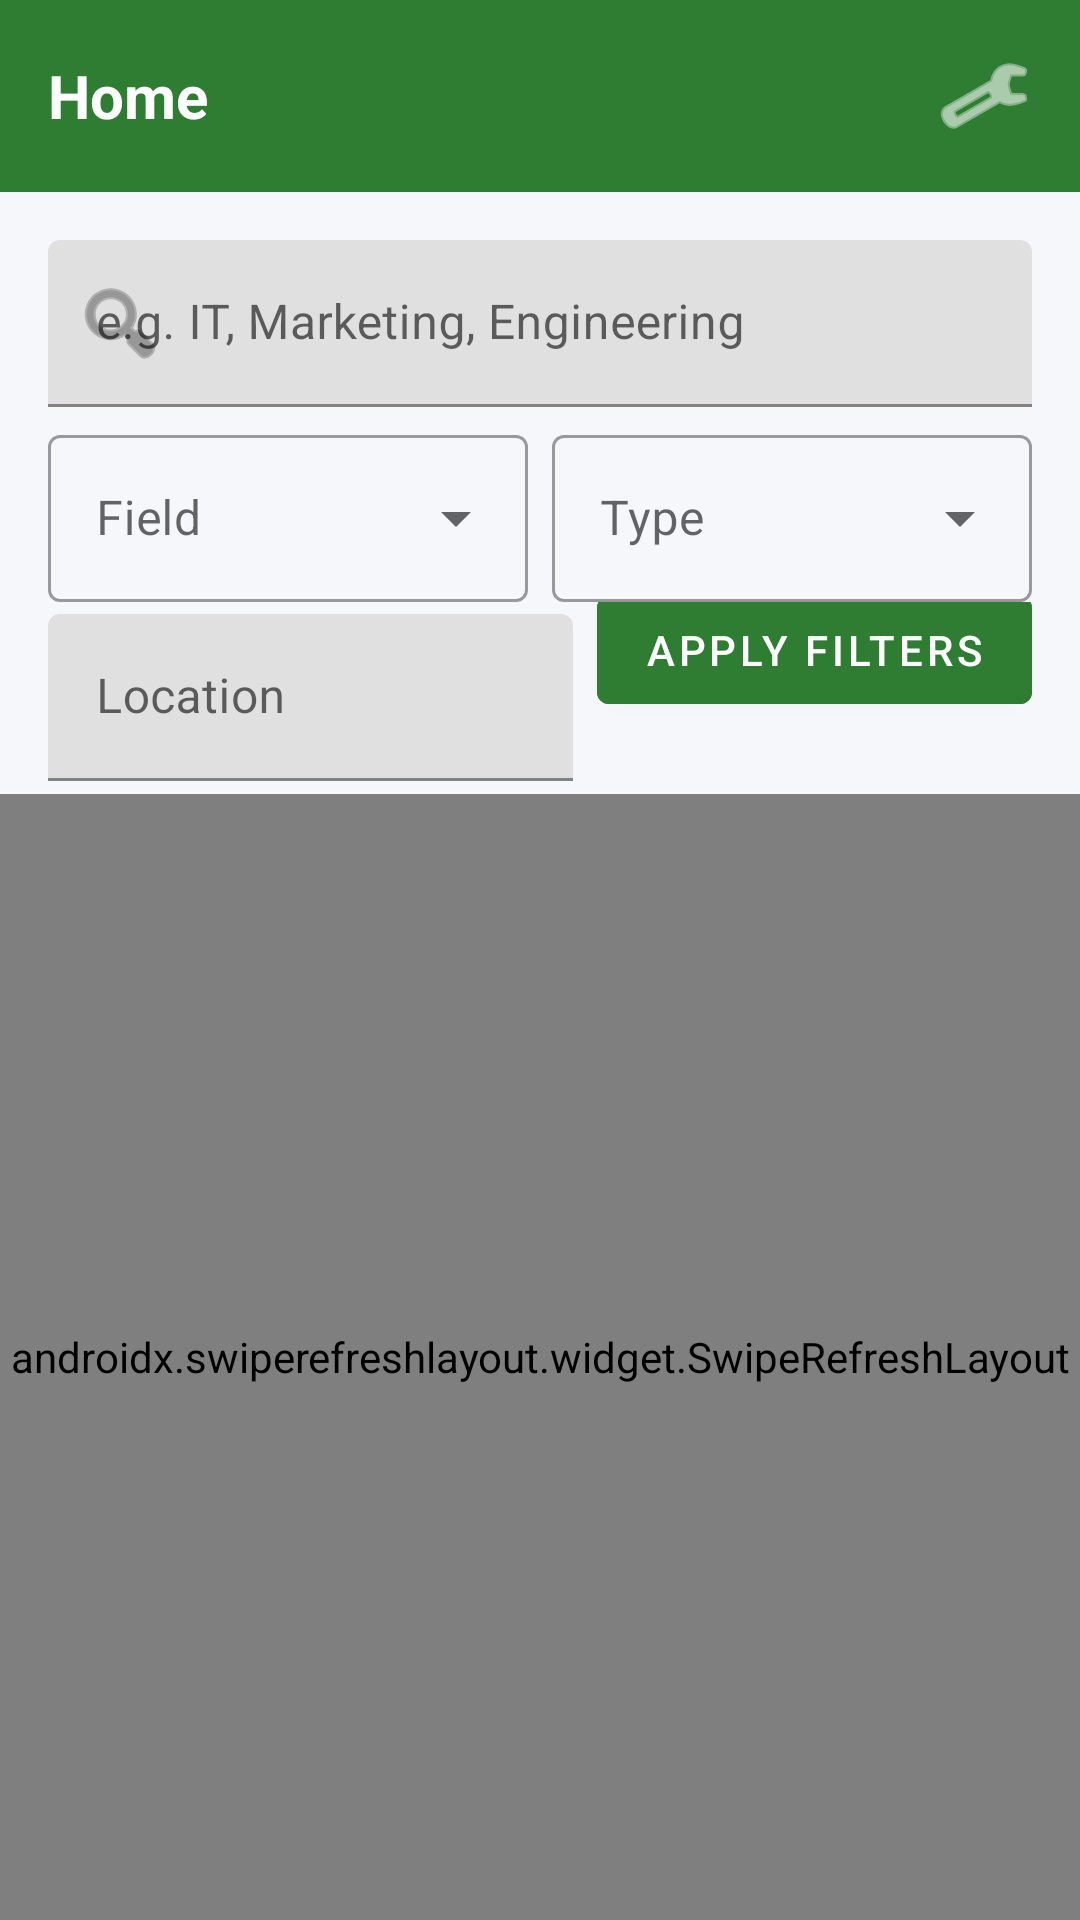

Screen size 1080 × 1920. Icon name, then its box in pixels as (x1, y1, x2, y2):
Profile & Settings: (941, 63, 1027, 129)
